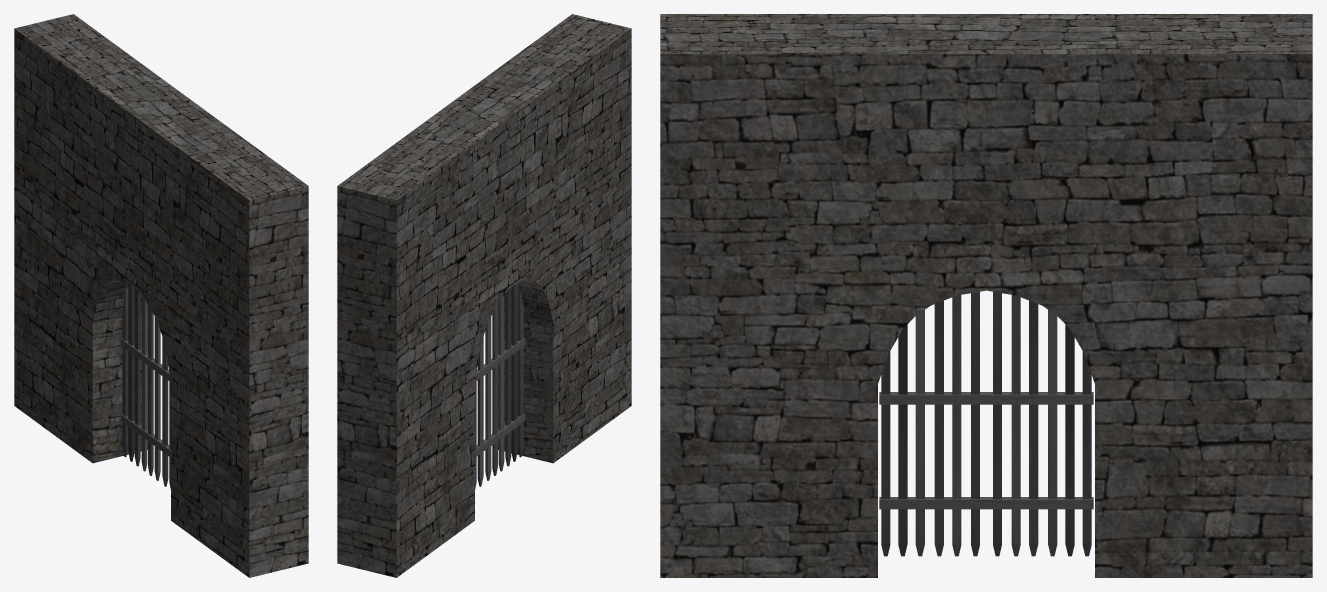
The model's file is portcullis.glb.
The picture shows the model from 3 angles, left to right: view 1: azimuth 30°, elevation 25°; view 2: azimuth 150°, elevation 25°; view 3: azimuth 270°, elevation 25°; orthographic projection. The views are drawn at different scales.
Parts seen in each view (by area): view 1: Cube.001; view 2: Cube.001; view 3: Cube.001.
Boxes of the visible parts, x1,y1,x2,y2 form: Cube.001: [14, 14, 308, 577]; Cube.001: [337, 14, 631, 577]; Cube.001: [660, 14, 1312, 577].
Size of the model in its own units: 1.24 by 7.51 by 8.48.
Materials: 1 (1 with a texture image).
